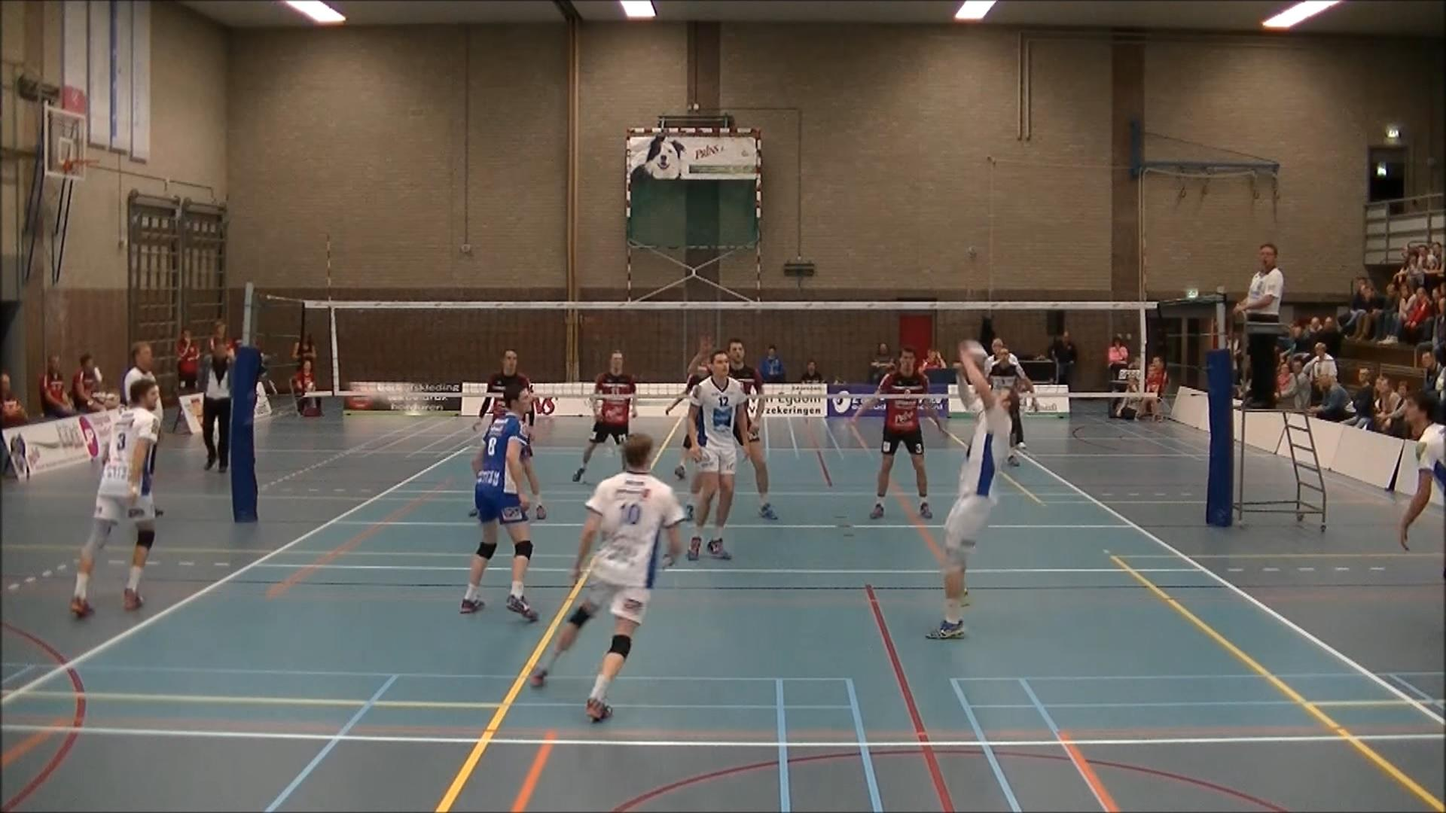Player: (530, 435, 684, 722), (70, 378, 160, 617), (460, 383, 537, 620), (850, 346, 945, 519), (464, 350, 552, 524), (687, 351, 749, 560), (728, 338, 776, 519), (572, 350, 636, 482), (1399, 390, 1445, 549), (664, 336, 714, 414), (665, 364, 709, 414)
Set: (923, 337, 1023, 648)
ball: (949, 337, 988, 367)
